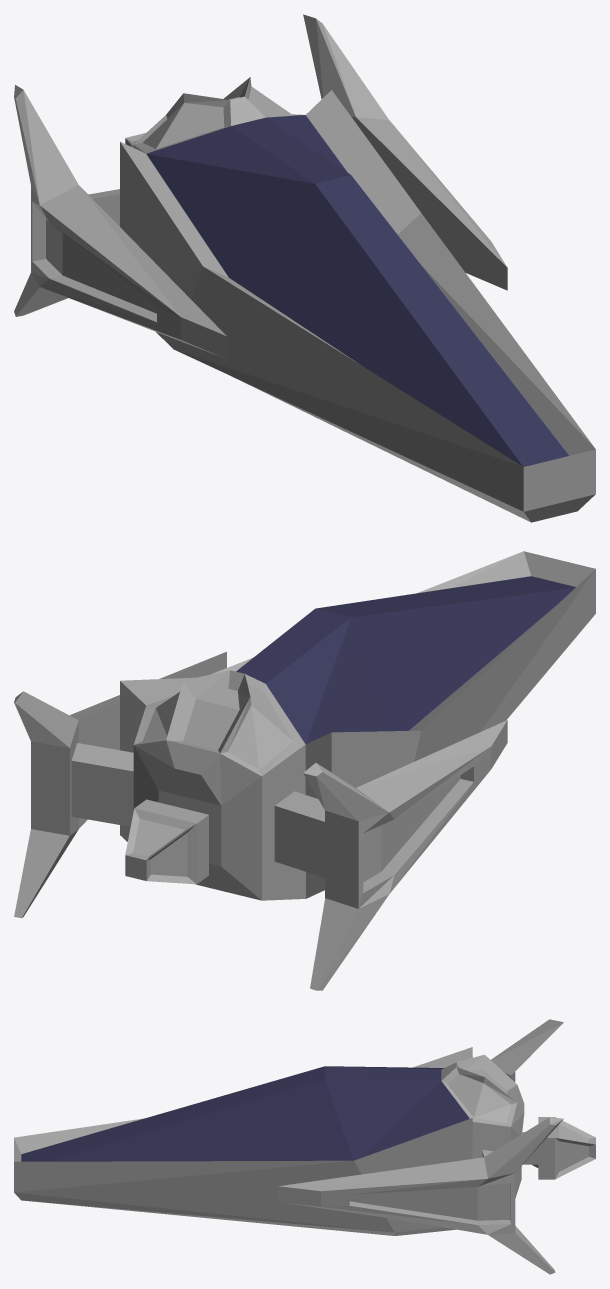
Rendered from Parking_Ship_1x2.fbx.
3 views of the same model, one above another, from view 1: azimuth 30°, elevation 25°; view 2: azimuth 150°, elevation 25°; view 3: azimuth 270°, elevation 25° (orthographic). The views are drawn at different scales.
Parts seen in each view (by area): view 1: Ship_1x2; view 2: Ship_1x2; view 3: Ship_1x2.
Boxes of the visible parts, <box> form: Ship_1x2: <box>14,14,595,522</box>; Ship_1x2: <box>14,551,595,990</box>; Ship_1x2: <box>14,1019,595,1274</box>.
Bounding box in the file's own units: 86.11 × 54.39 × 181.
